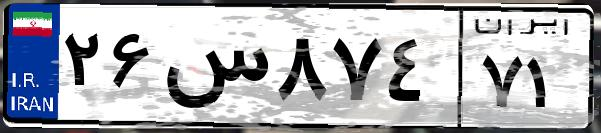1: (525, 38, 570, 115)
2: (57, 26, 110, 100)
4: (385, 28, 445, 110)
6: (110, 28, 158, 98)
7: (330, 28, 385, 110), (475, 38, 525, 113)
8: (270, 28, 330, 110)
س: (158, 20, 270, 120)
